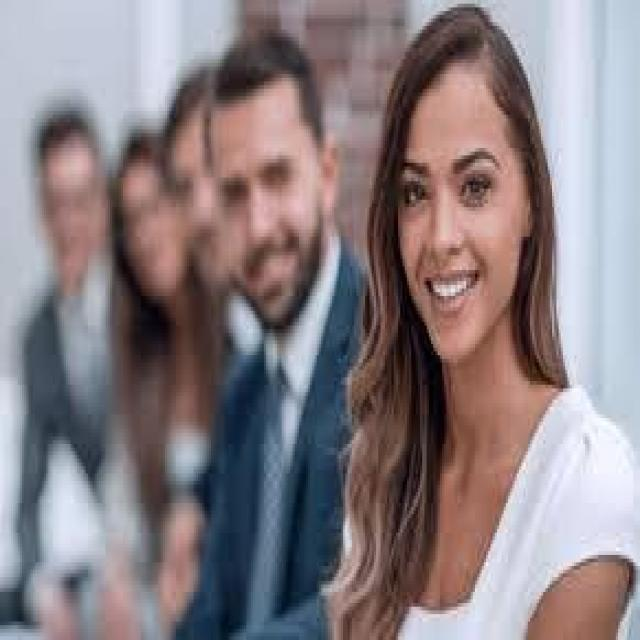person: (338, 11, 624, 636), (196, 37, 363, 636), (99, 104, 216, 518), (26, 85, 126, 381), (156, 15, 240, 340)
